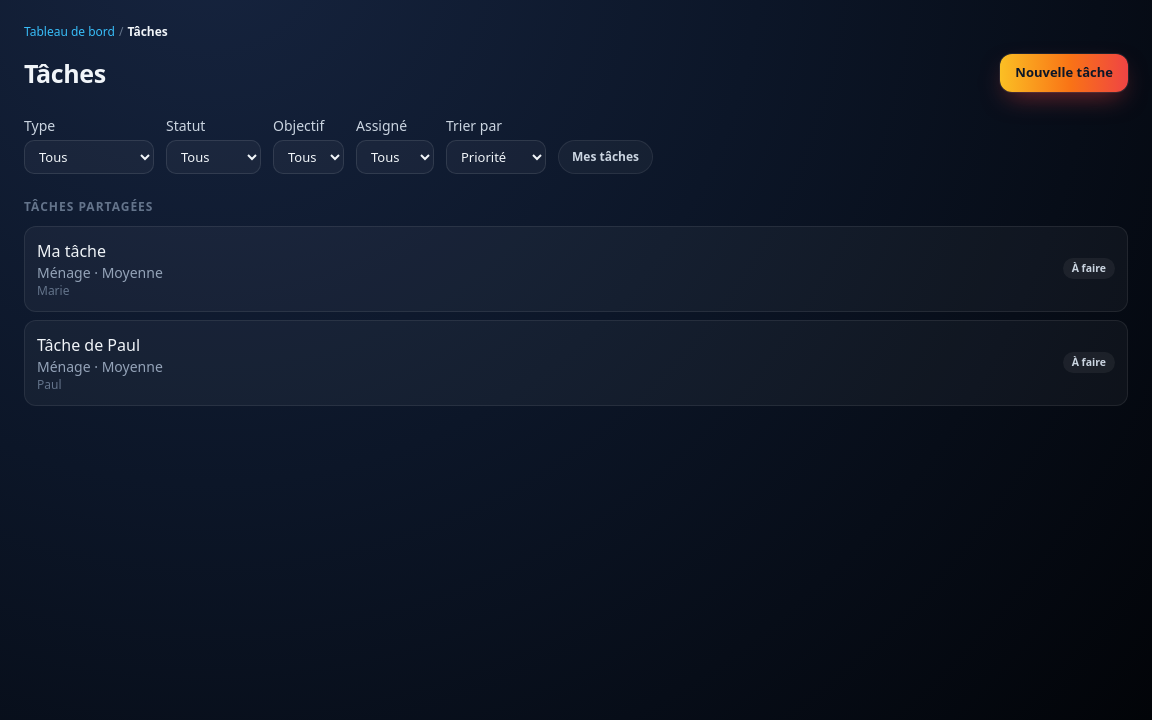
TasksPage — filtre Mes tâches et affichage des assignés › filtre sur les tâches de l'utilisateur courant au clic sur "Mes tâches"
Expected: the text "Tâche de Paul" is shown, [37,334,140,356]
Click the button "Mes tâches" at (606, 156), box [558,140,653,174]
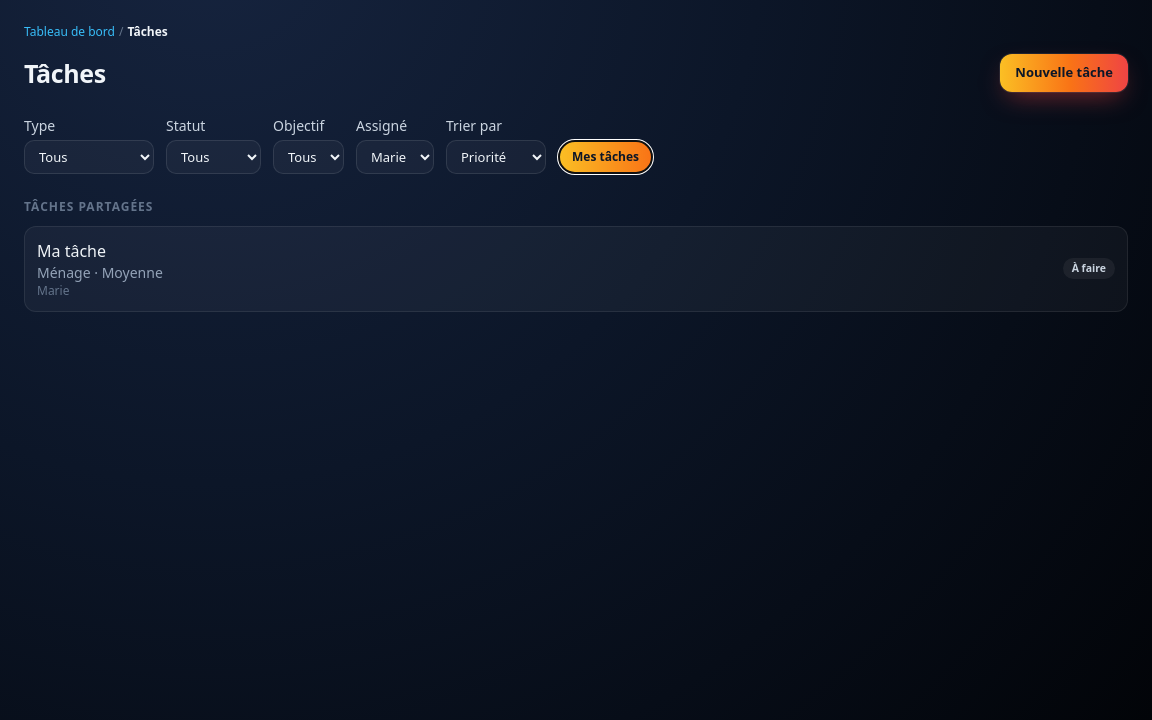
Expected: the text "Ma tâche" is shown, [37,240,106,262]
Expected: the link "Tâche de Paul" is gone
Click the button "Mes tâches" at (606, 156), box [558,140,653,174]
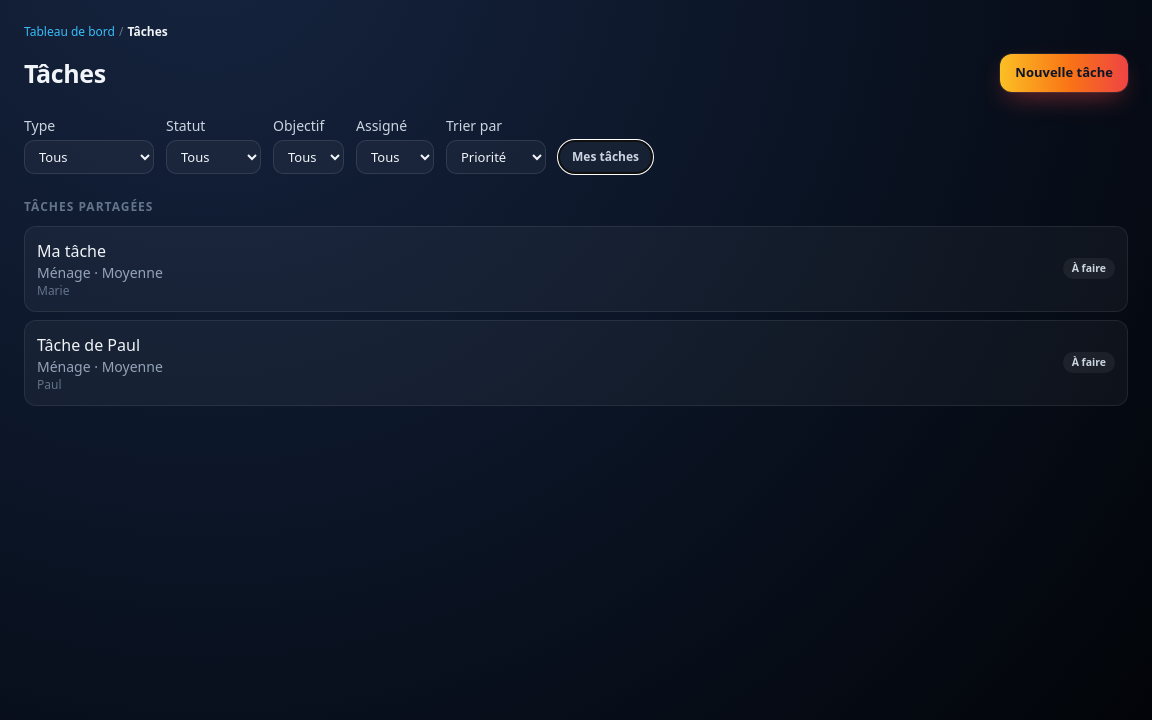
Expected: the text "Tâche de Paul" is shown, [37,334,140,356]
